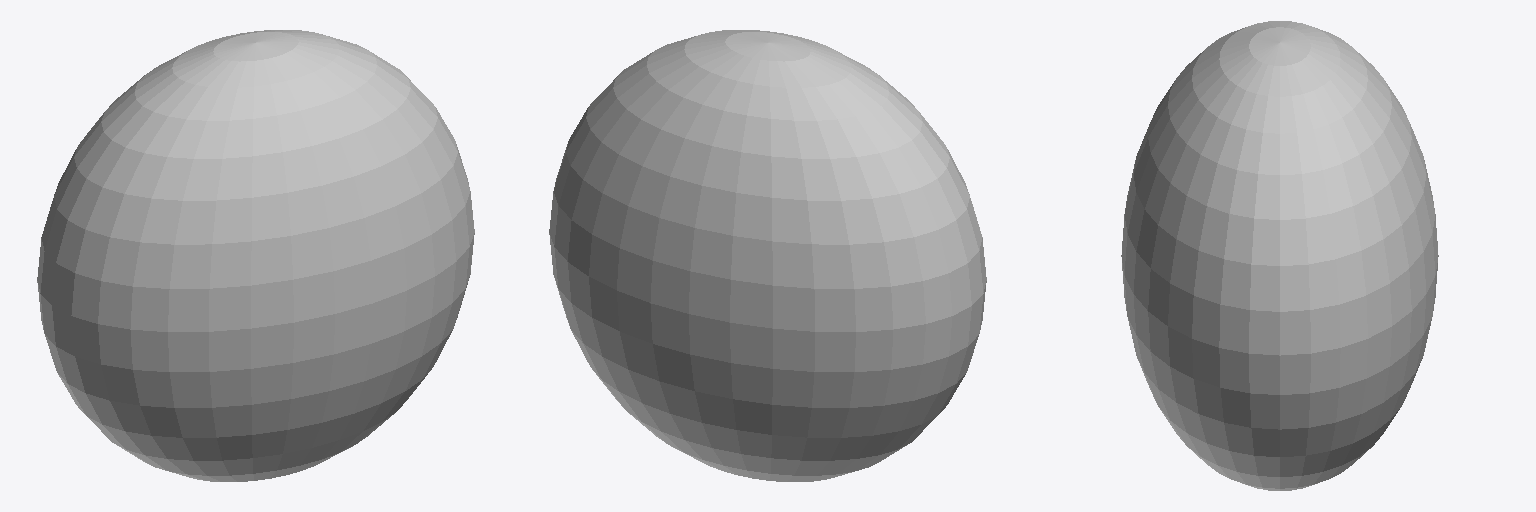
Rendered from uolola2.obj.
3 renders of one model, left to right at view 1: azimuth 30°, elevation 25°; view 2: azimuth 150°, elevation 25°; view 3: azimuth 270°, elevation 25°, orthographic.
Visible parts, largest first — view 1: Sphere; view 2: Sphere; view 3: Sphere.
Part boxes in pixels (bbox=[...]): Sphere: bbox=[37, 30, 474, 481]; Sphere: bbox=[549, 30, 986, 481]; Sphere: bbox=[1121, 21, 1438, 490].
Bounding box in the file's own units: 2 × 2 × 1.35.